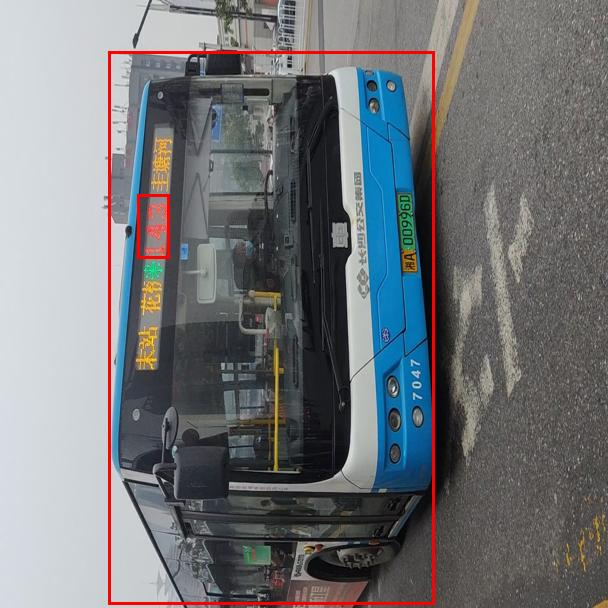bus: (108, 51, 434, 604)
screen: (137, 194, 169, 258)
